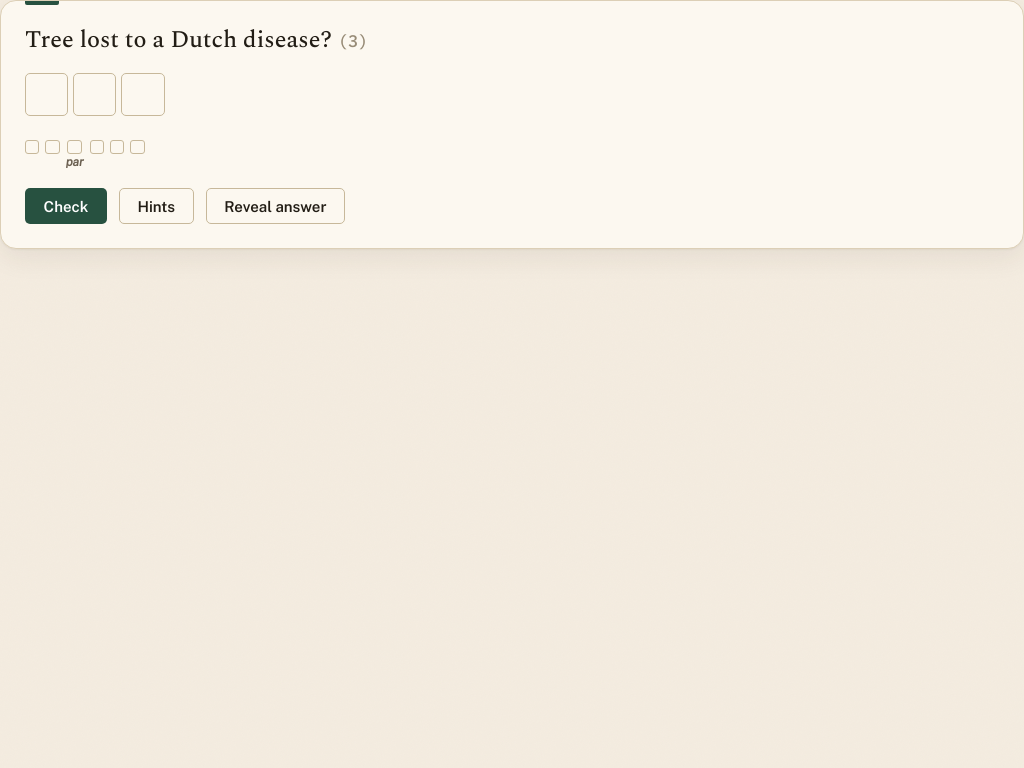
it: DailyClueCard › a hint from the menu costs 1 and shows its text
Click the button "Hints" at (156, 206), box [119,188,194,224]
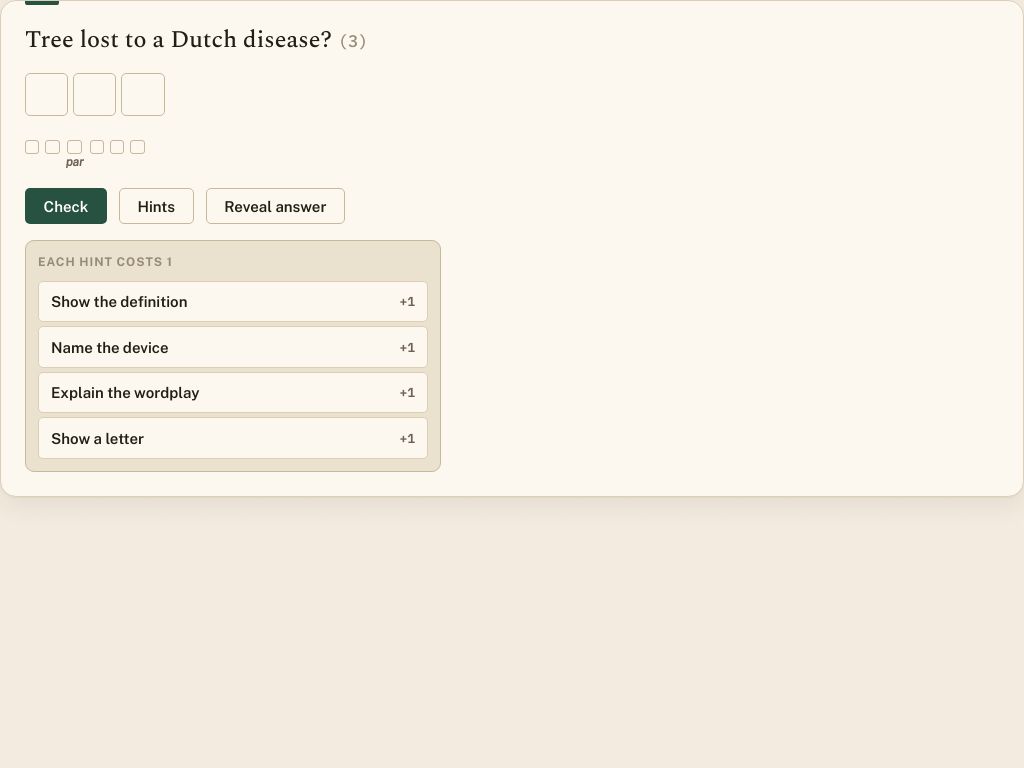
Click the button "Name the device +1" at (110, 347), box [38,326,428,368]
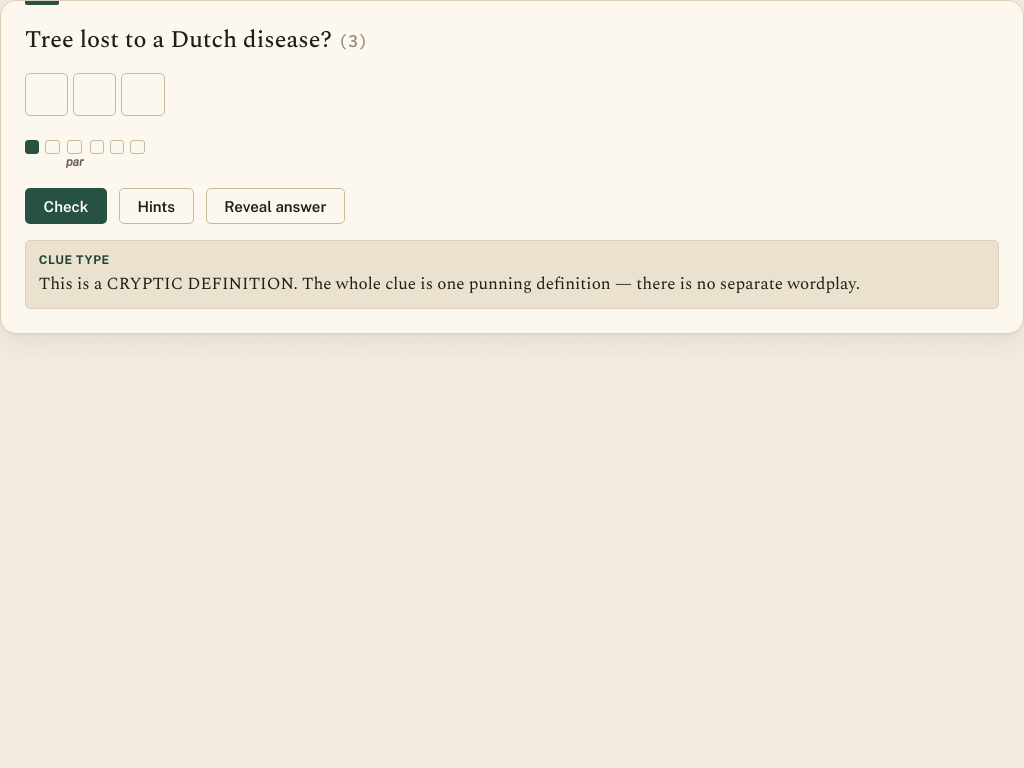
// Each hint can be taken once.
Click the button "Hints" at (156, 206), box [119,188,194,224]
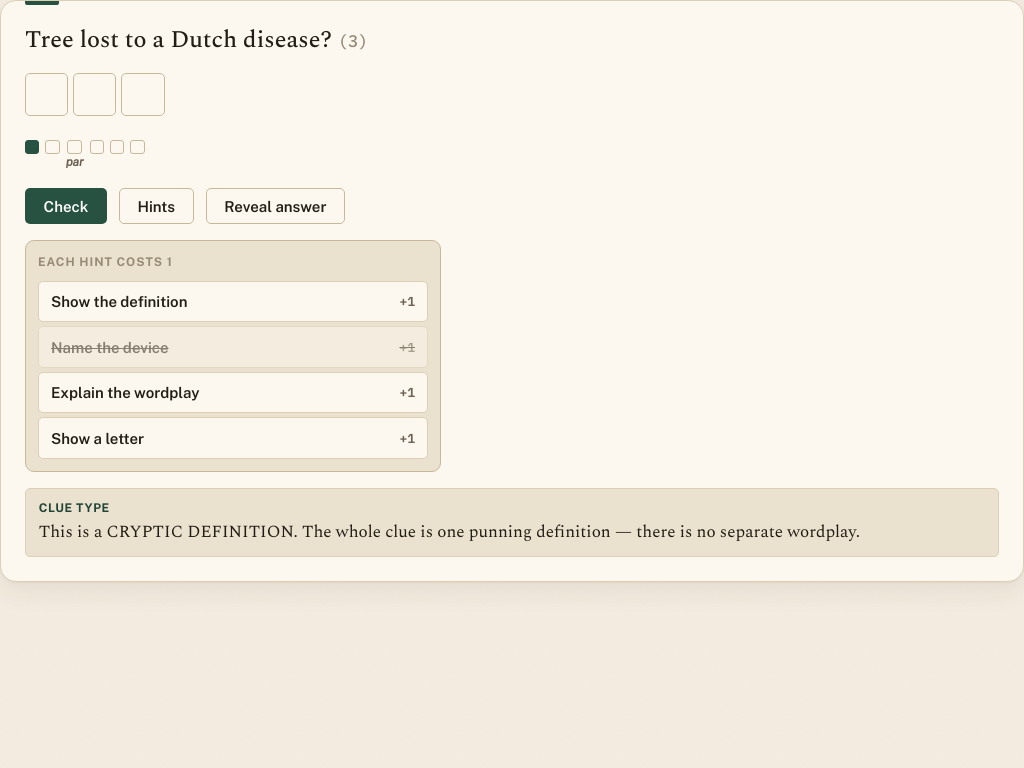
Expected: the button "Name the device +1" is disabled, [38,326,428,368]
